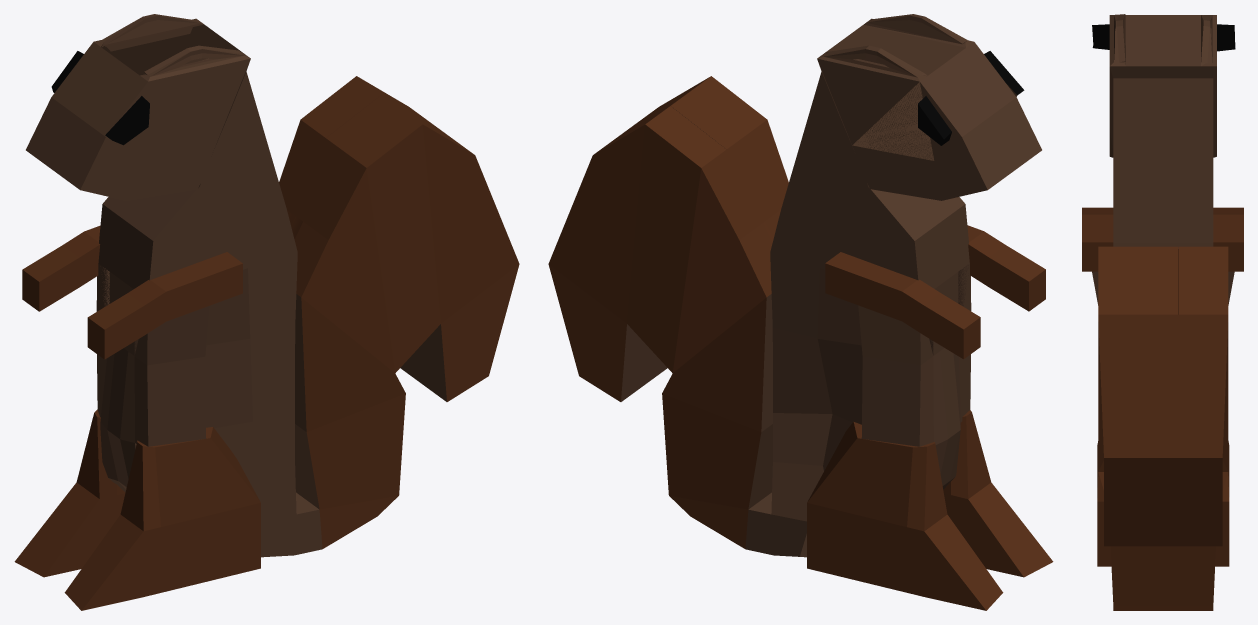
Rendered from Ardillarevision.fbx.
3 views of the same model, side by side, from view 1: azimuth 30°, elevation 25°; view 2: azimuth 150°, elevation 25°; view 3: azimuth 270°, elevation 25° (orthographic).
Visible parts, largest first — view 1: Cuerpo, Patas, Mano2, Mano1; view 2: Cuerpo, Patas, Mano1, Mano2; view 3: Cuerpo, Patas, Mano2, Mano1.
Part boxes in pixels (x1=…): Cuerpo: x1=26, y1=14, x2=519, y2=557; Patas: x1=14, y1=409, x2=260, y2=610; Mano2: x1=87, y1=252, x2=242, y2=359; Mano1: x1=22, y1=225, x2=100, y2=311; Cuerpo: x1=548, y1=14, x2=1041, y2=557; Patas: x1=807, y1=410, x2=1053, y2=610; Mano1: x1=825, y1=252, x2=980, y2=359; Mano2: x1=967, y1=225, x2=1045, y2=311; Cuerpo: x1=1092, y1=14, x2=1235, y2=610; Patas: x1=1097, y1=441, x2=1229, y2=566; Mano2: x1=1082, y1=207, x2=1113, y2=271; Mano1: x1=1213, y1=207, x2=1243, y2=271.
Size of the model in its own units: 325 by 372 by 105.
